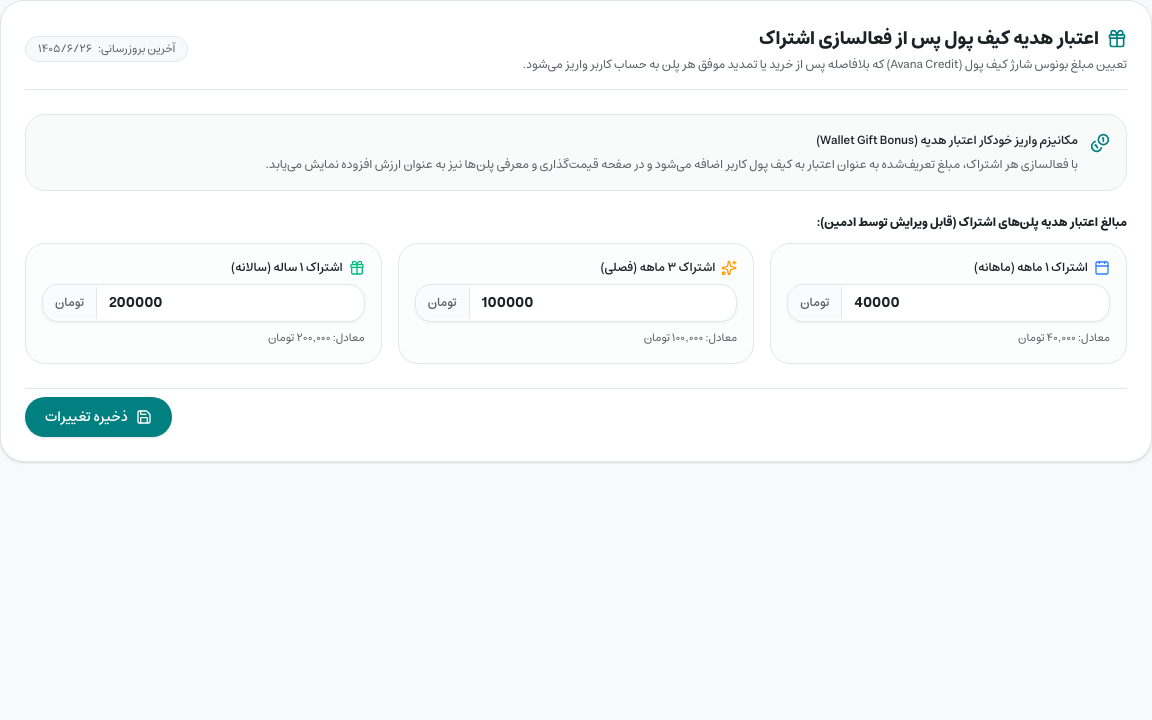
Test case: Admin Subscription Gift Credit Bonuses UI Suite › 3. Validates inputs preventing empty or invalid values
Clear the number field named "مبلغ هدیه اشتراک ۱ ماهه" at (976, 303), box [842,285,1109,321]
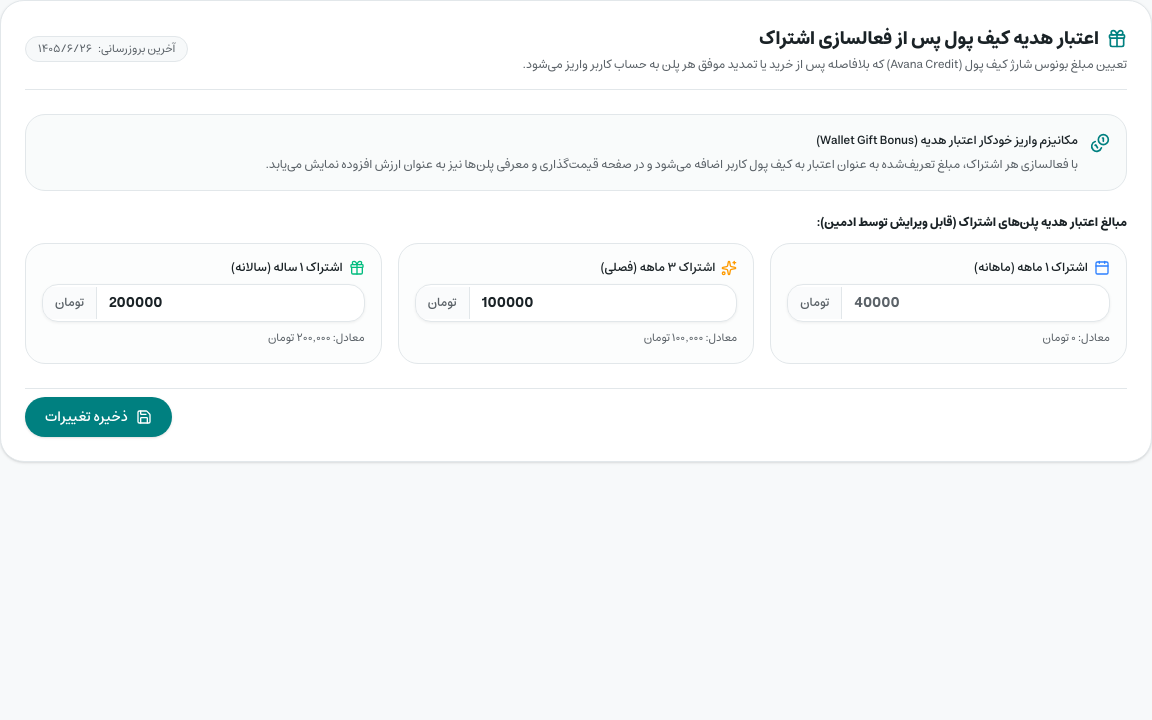
Click the button "ذخیره تغییرات".
click(98, 416)  # box [25,396,172,436]
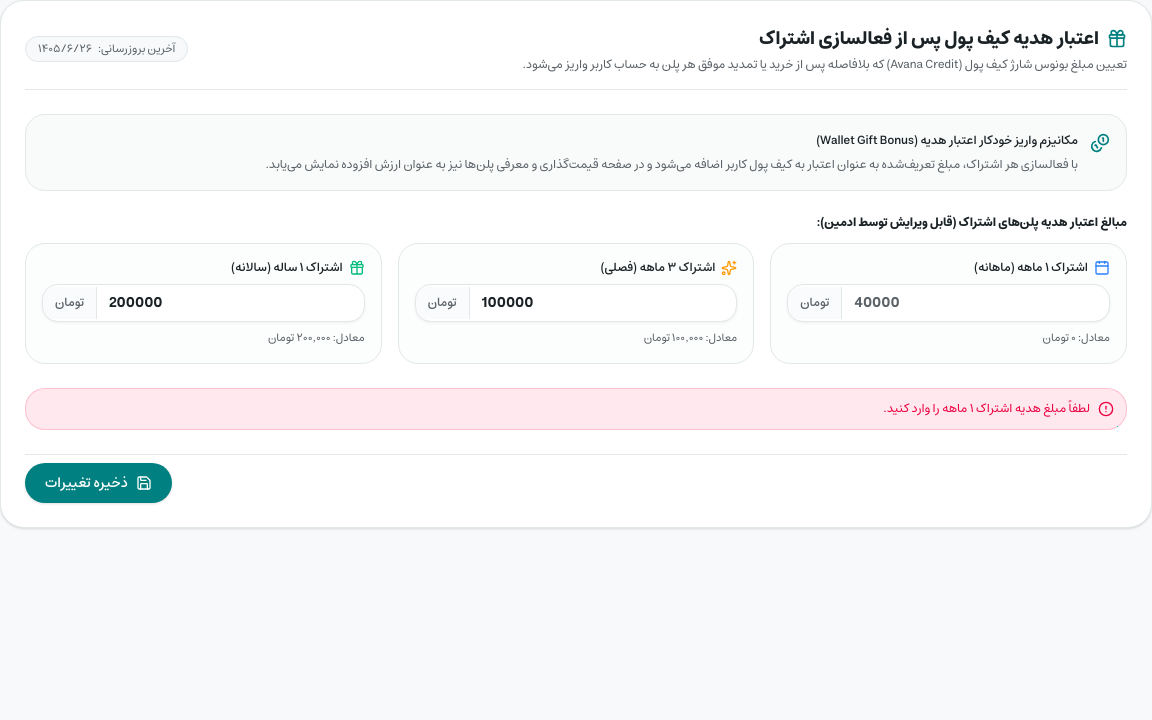
Expected: the text "لطفاً مبلغ هدیه اشتراک ۱ ماهه را وارد کنید." is shown, [883,400,1090,416]
